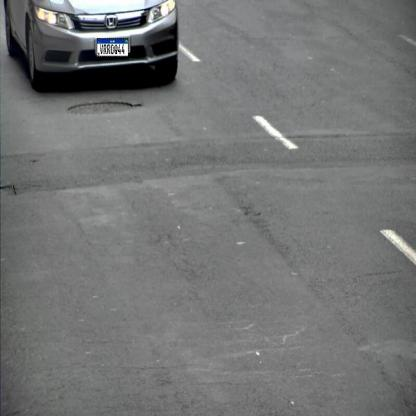PlacaM: (97, 38, 128, 57)
